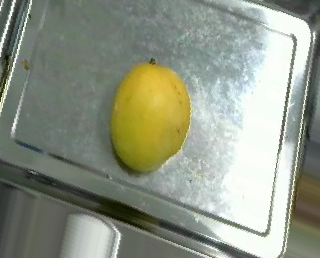Mango: (110, 60, 189, 173)
